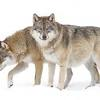Lobo: (26, 10, 99, 88), (1, 24, 27, 90)
